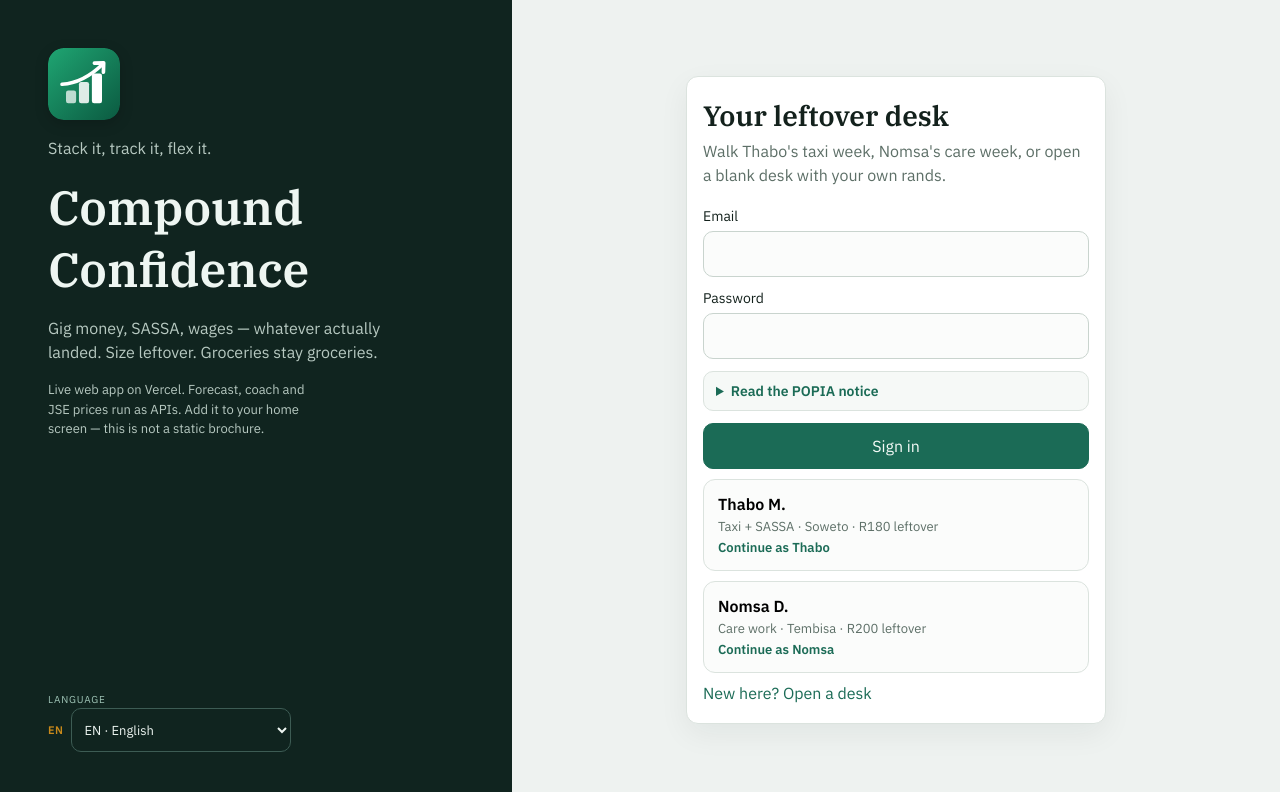
Test: Compound Confidence dashboard › switches into isiXhosa and captioned SASL
Step 1. Click the button with test id "demo-login" → click(896, 525), box [703,479,1089,571]
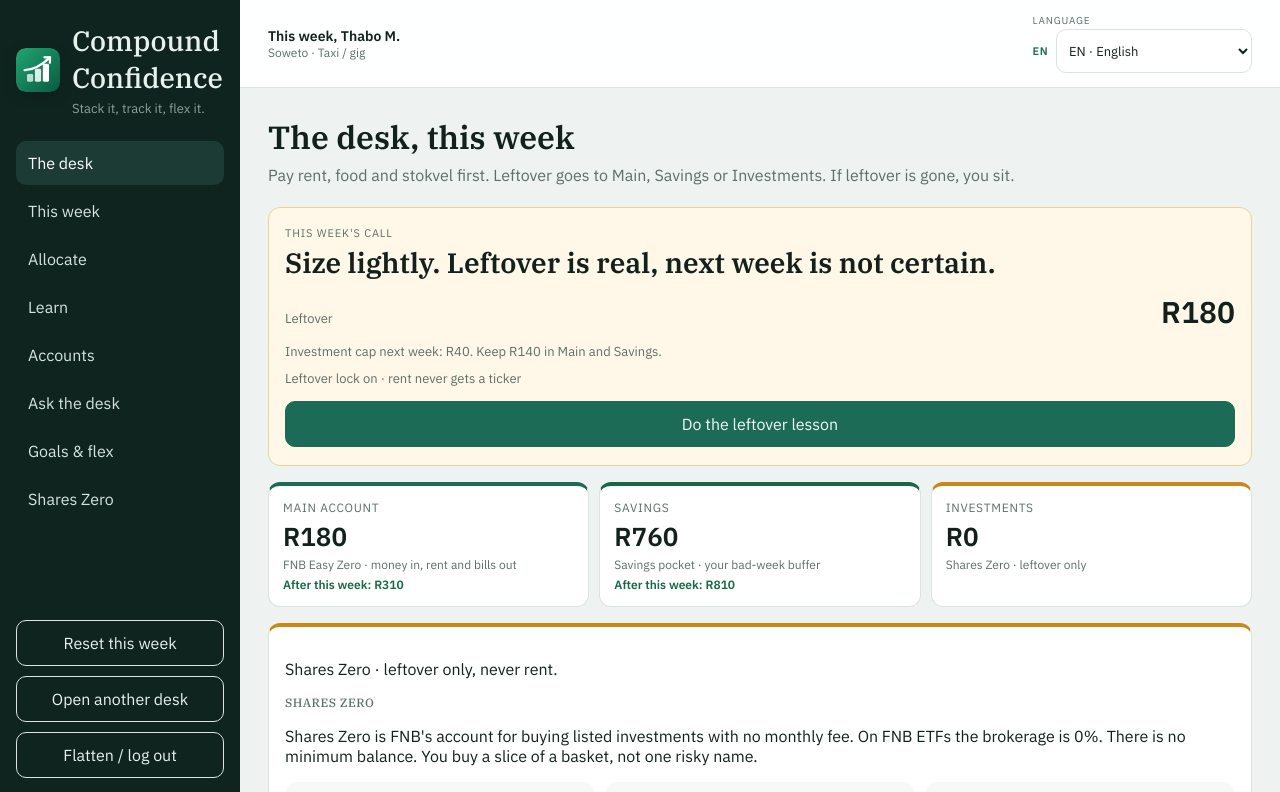
Step 2. Select "XH · isiXhosa" in the dropdown with test id "lang-select" → (1154, 51), box [1056,29,1252,73]
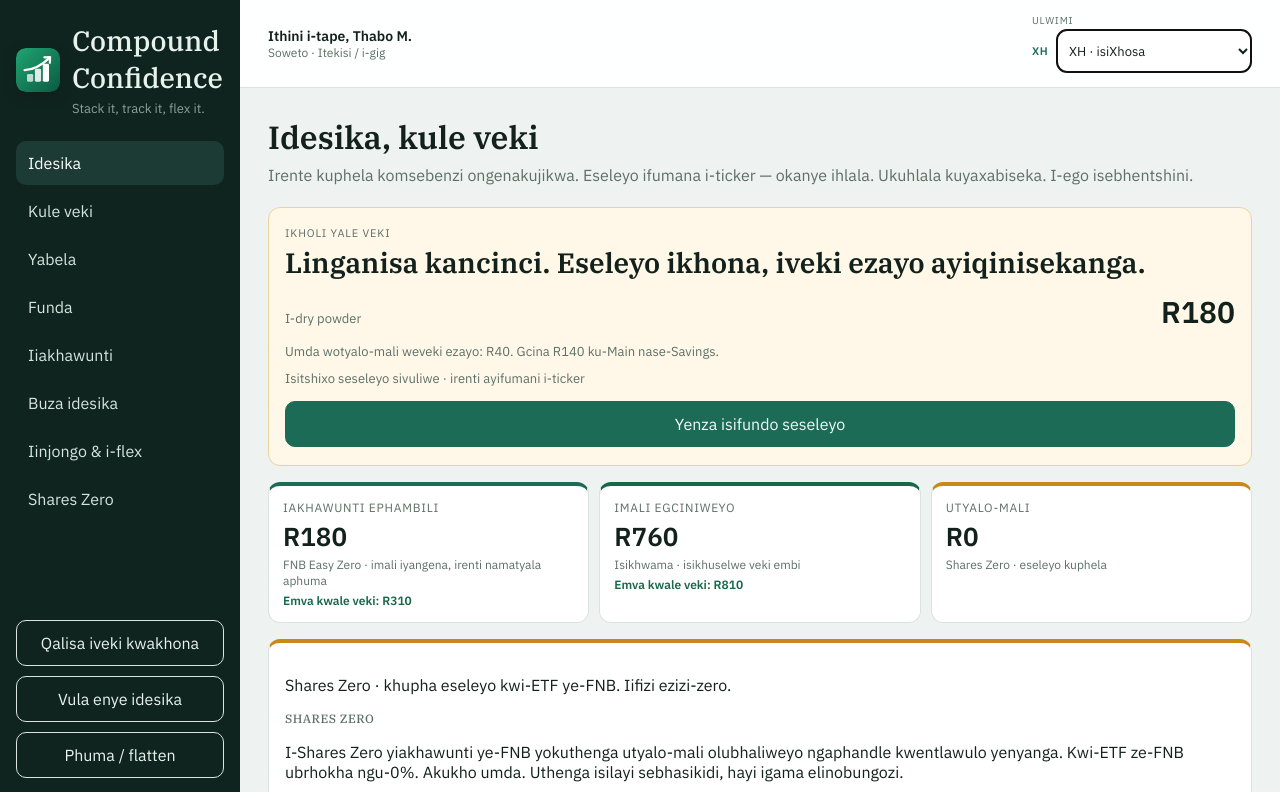
Expected: the heading "Idesika, kule veki" is shown, [268,116,538,158]
Step 3. Select "SASL · SASL" in the dropdown with test id "lang-select" → (1154, 51), box [1056,29,1252,73]
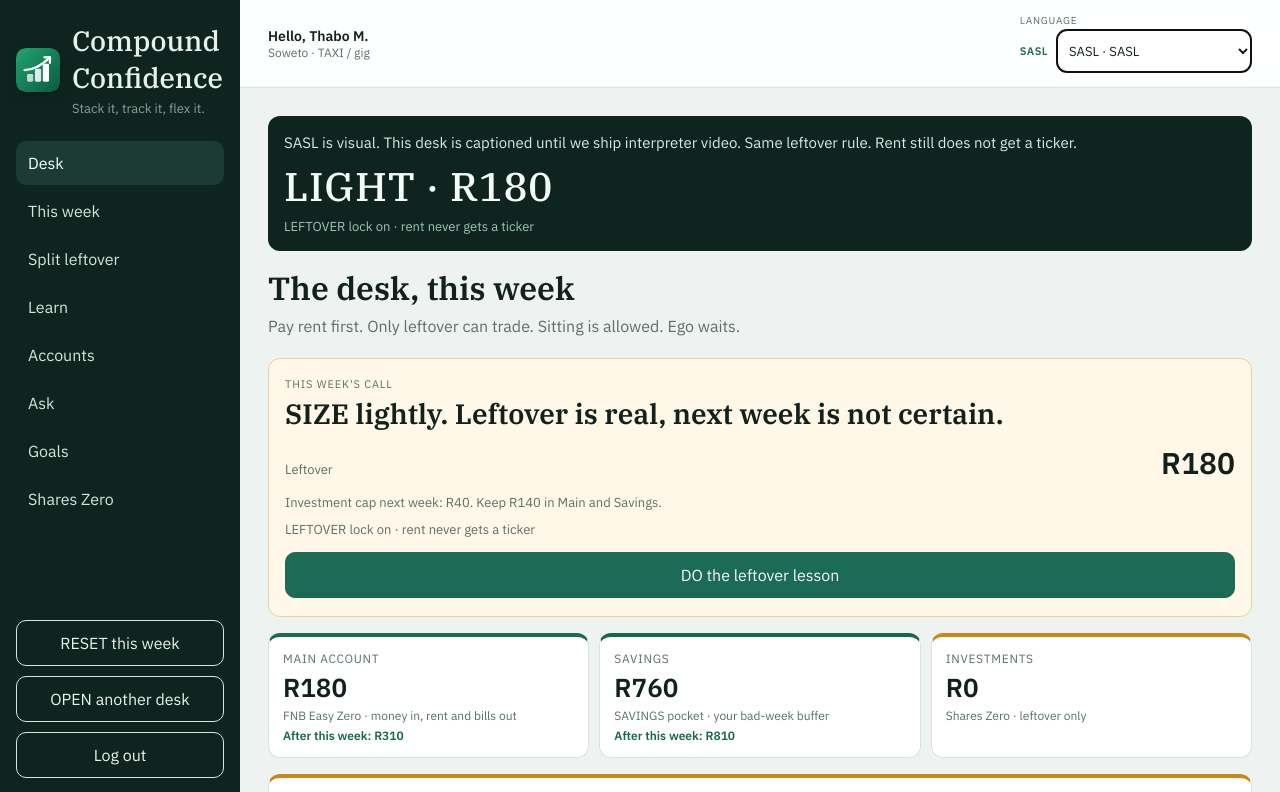
Expected: the element with test id "sasl-rail" shows "SASL is visual", [284,133,1077,152]
Expected: the element with test id "sasl-rail" shows "R180", [450,160,553,212]
